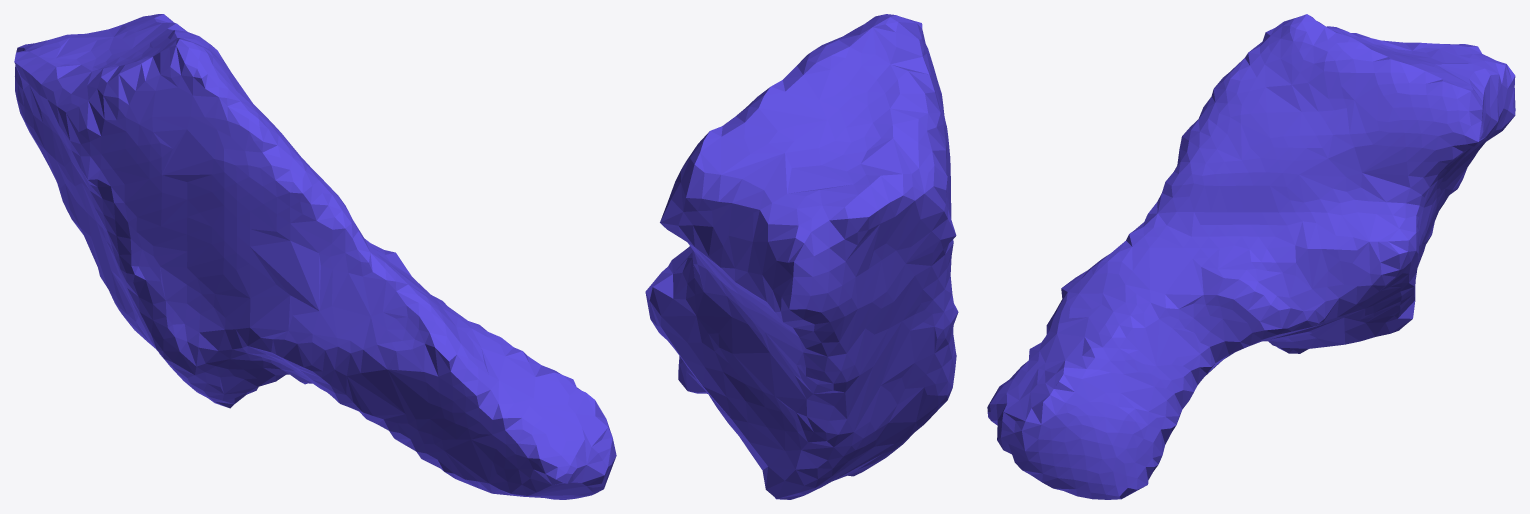
The model's file is Model_10084_LH__Auditory_cortex__rostromedial_area_(AuRM).obj.
The picture shows the model from 3 angles, left to right: view 1: azimuth 30°, elevation 25°; view 2: azimuth 150°, elevation 25°; view 3: azimuth 270°, elevation 25°; orthographic projection. The views are drawn at different scales.
Size of the model in its own units: 2.11 by 2.46 by 3.14.
